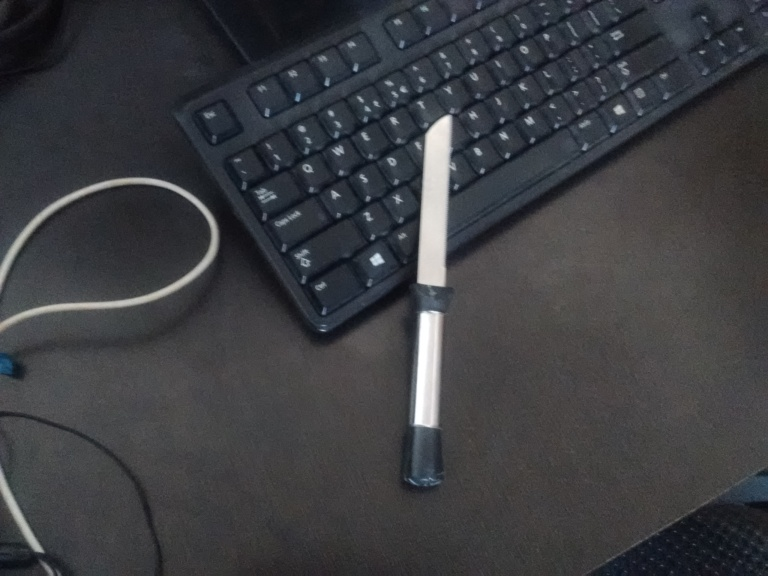knife: (400, 112, 457, 487)
